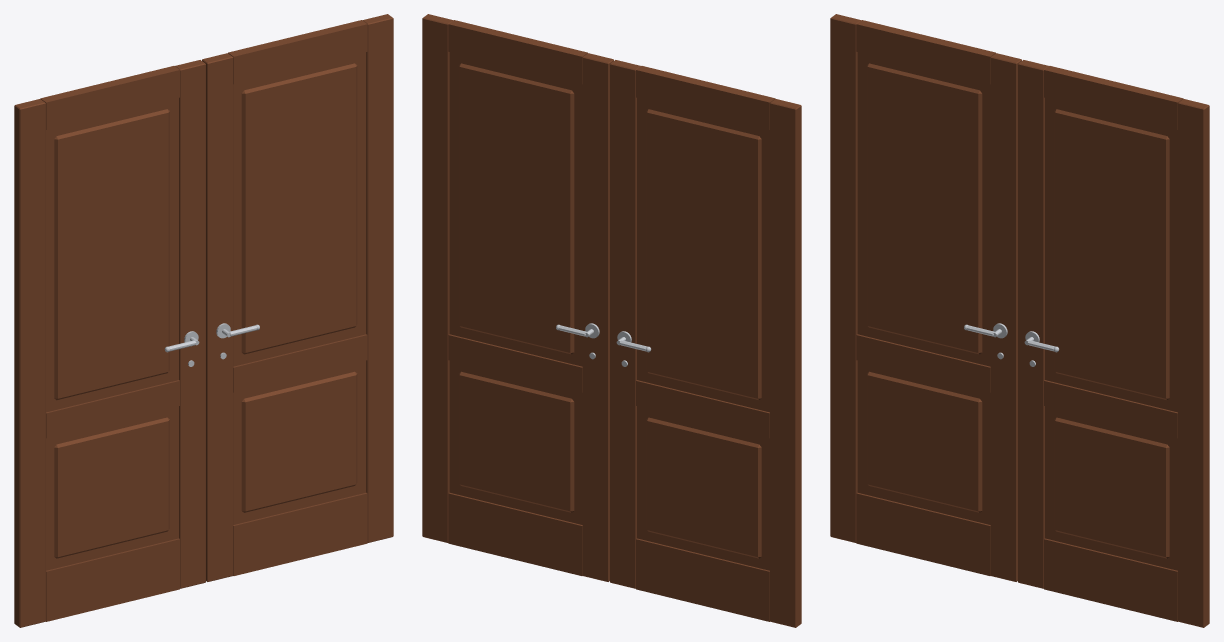
File: porta_dupla_classica_2_madeira.glb
3 views of the same model, side by side, from view 1: azimuth 30°, elevation 25°; view 2: azimuth 150°, elevation 25°; view 3: azimuth 330°, elevation 25° (orthographic).
Visible parts, largest first — view 1: porta_dupla_classica_2_madeira; view 2: porta_dupla_classica_2_madeira; view 3: porta_dupla_classica_2_madeira.
Part boxes in pixels (x1,y1,x2,y2): porta_dupla_classica_2_madeira: [14, 14, 393, 627]; porta_dupla_classica_2_madeira: [422, 14, 801, 627]; porta_dupla_classica_2_madeira: [830, 14, 1209, 627].
Size of the model in its own units: 1.56 by 2.07 by 0.143.
